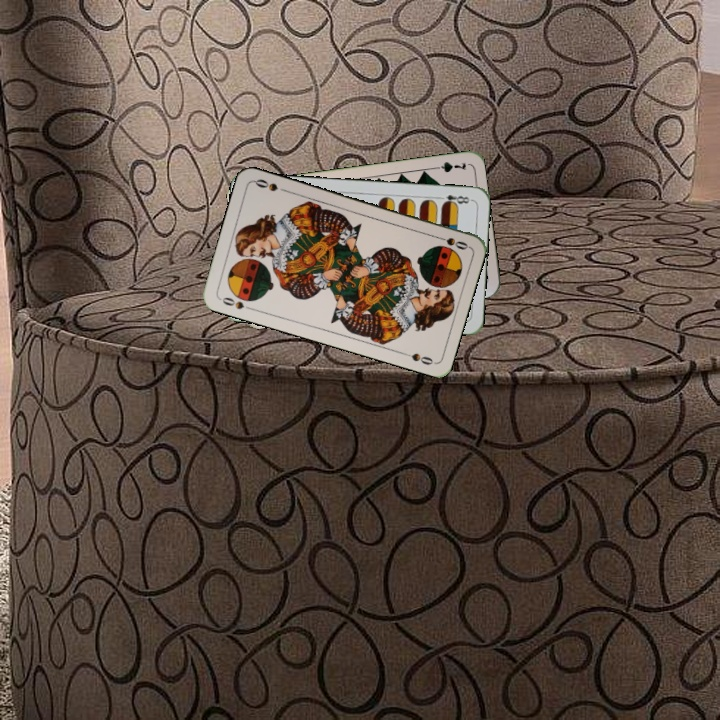E8: (434, 191, 474, 208)
G7: (428, 158, 469, 175)
SO: (431, 232, 471, 252), (216, 293, 255, 312)
